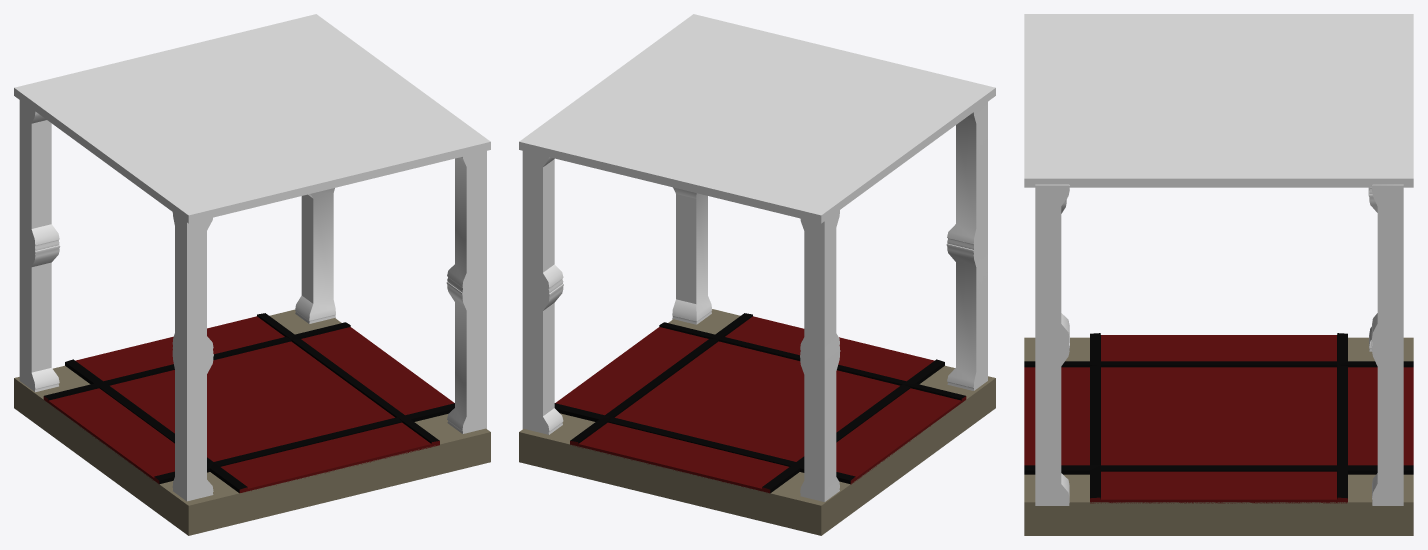
Rendered from Crooss.fbx.
3 views of the same model, side by side, from view 1: azimuth 30°, elevation 25°; view 2: azimuth 150°, elevation 25°; view 3: azimuth 270°, elevation 25° (orthographic). The views are drawn at different scales.
Parts seen in each view (by area): view 1: 立方体.036; view 2: 立方体.036; view 3: 立方体.036.
Part boxes in pixels (<box>): 立方体.036: <box>14,14,490,535</box>; 立方体.036: <box>519,14,995,535</box>; 立方体.036: <box>1024,14,1413,535</box>.
Bounding box in the file's own units: 2007 × 2027 × 2000.
